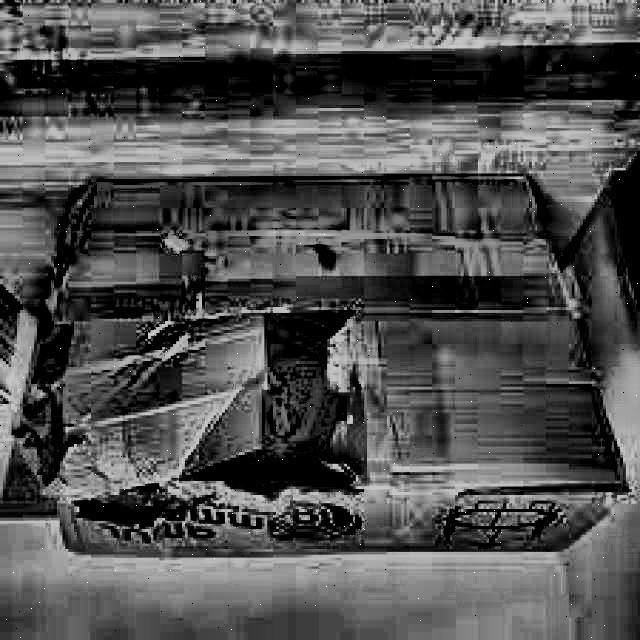box: (5, 166, 636, 562)
hole: (179, 308, 369, 500), (73, 484, 213, 528)
